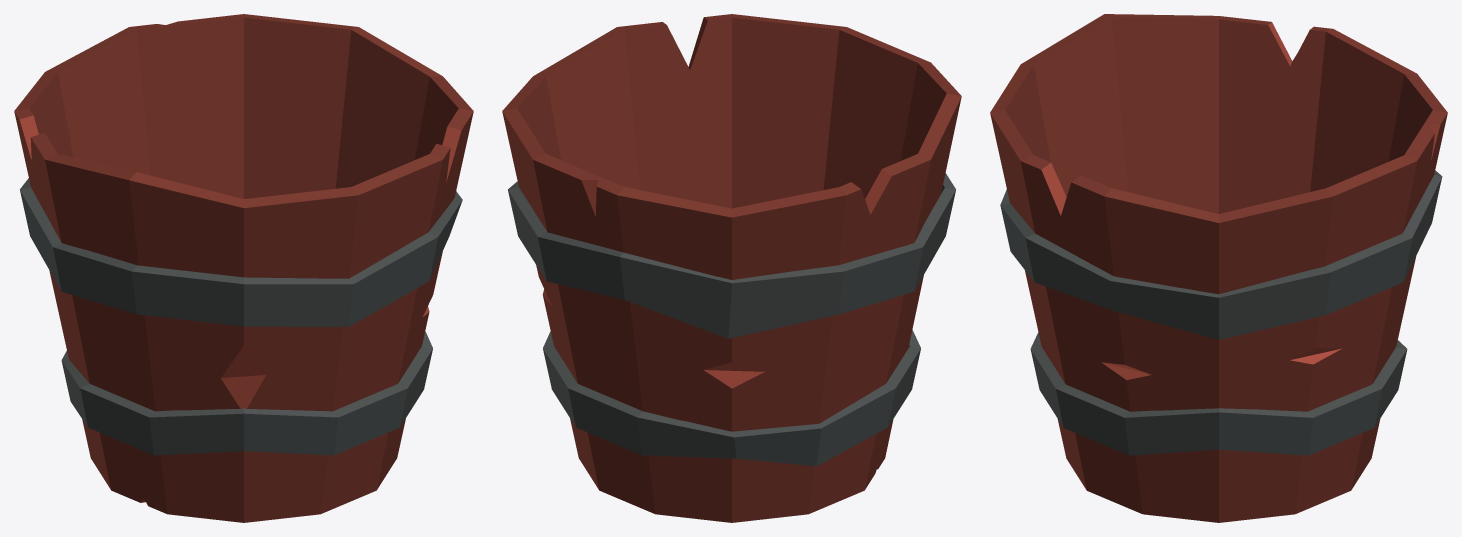
File: Bucket_1_Red.fbx
3 views of the same model, side by side, from view 1: azimuth 30°, elevation 25°; view 2: azimuth 150°, elevation 25°; view 3: azimuth 270°, elevation 25° (orthographic).
Visible parts, largest first — view 1: Bucket_1_Red_Part_1, Bucket_1_Red_Part_3, Bucket_1_Red_Part_2; view 2: Bucket_1_Red_Part_1, Bucket_1_Red_Part_3, Bucket_1_Red_Part_2; view 3: Bucket_1_Red_Part_1, Bucket_1_Red_Part_3, Bucket_1_Red_Part_2.
Part boxes in pixels (bbox=[...]): Bucket_1_Red_Part_1: bbox=[14, 14, 473, 522]; Bucket_1_Red_Part_3: bbox=[20, 178, 462, 455]; Bucket_1_Red_Part_2: bbox=[19, 115, 461, 502]; Bucket_1_Red_Part_1: bbox=[502, 14, 961, 522]; Bucket_1_Red_Part_3: bbox=[508, 173, 955, 466]; Bucket_1_Red_Part_2: bbox=[542, 17, 891, 469]; Bucket_1_Red_Part_1: bbox=[990, 14, 1447, 522]; Bucket_1_Red_Part_3: bbox=[1000, 170, 1442, 455]; Bucket_1_Red_Part_2: bbox=[1041, 22, 1440, 380].
Size of the model in its own units: 60 by 52.54 by 60.
